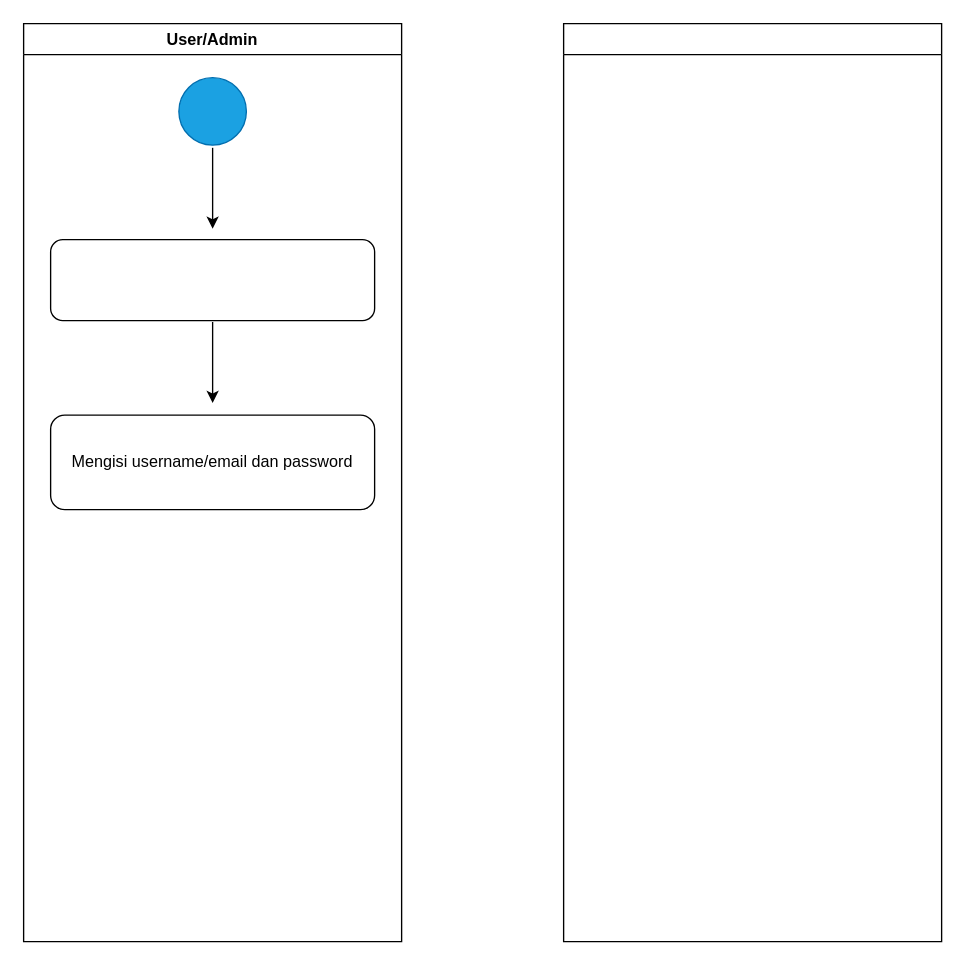
Image size: 965x965. Some labels were removed from this diagram. The centre of each missing label's shape, as x and y in pixels:
"Memasuki halaman login" goes at (212,279).
"Sistem" goes at (752,482).
